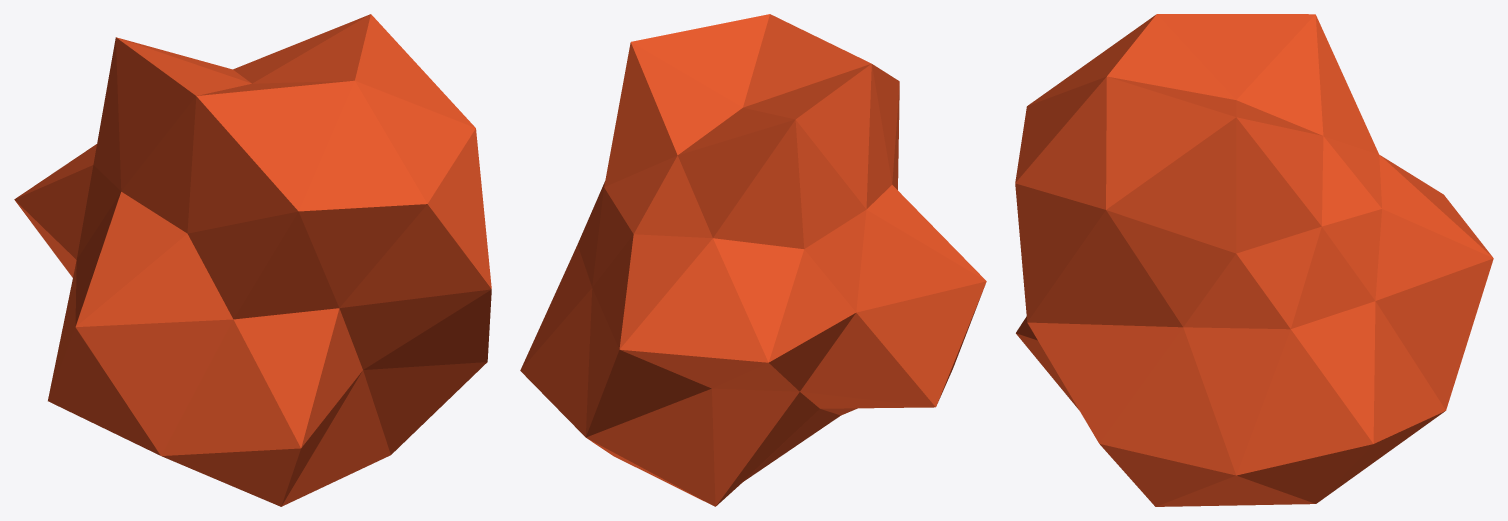
Rendered from Asteroid1.fbx.
The picture shows the model from 3 angles, left to right: view 1: azimuth 30°, elevation 25°; view 2: azimuth 150°, elevation 25°; view 3: azimuth 270°, elevation 25°; orthographic projection. The views are drawn at different scales.
Parts seen in each view (by area): view 1: Icosphere; view 2: Icosphere; view 3: Icosphere.
Part boxes in pixels (bbox=[...]): Icosphere: bbox=[14, 14, 491, 506]; Icosphere: bbox=[520, 14, 986, 506]; Icosphere: bbox=[1015, 14, 1493, 506].
Size of the model in its own units: 216 by 220 by 221.
